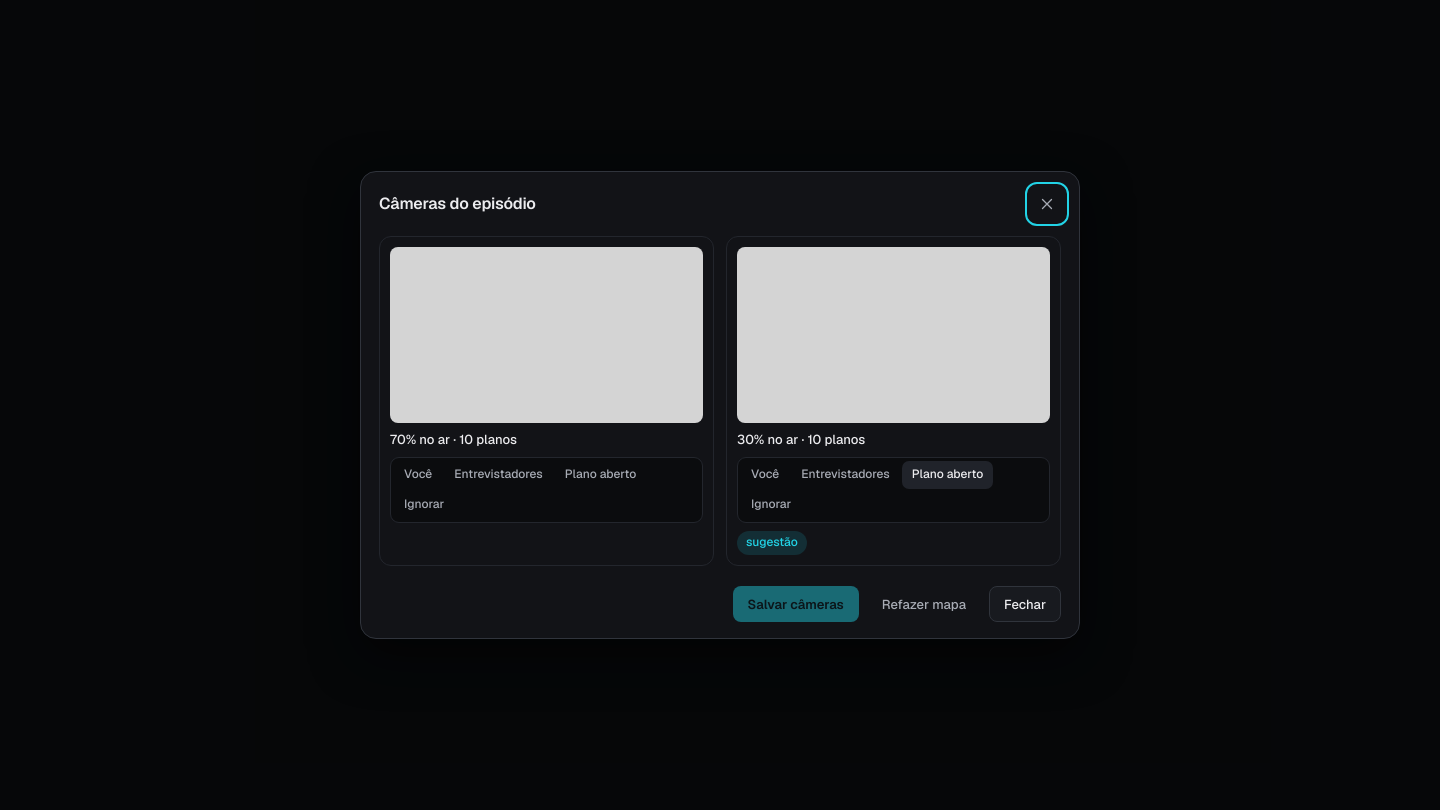
Scenario: save is disabled while a main group has no role
Expected: the button "Salvar câmeras" is disabled, x1=732 y1=586 x2=859 y2=622
Click the radio button labelled "Você" below "70%" at (418, 475), box x1=394 y1=461 x2=442 y2=489
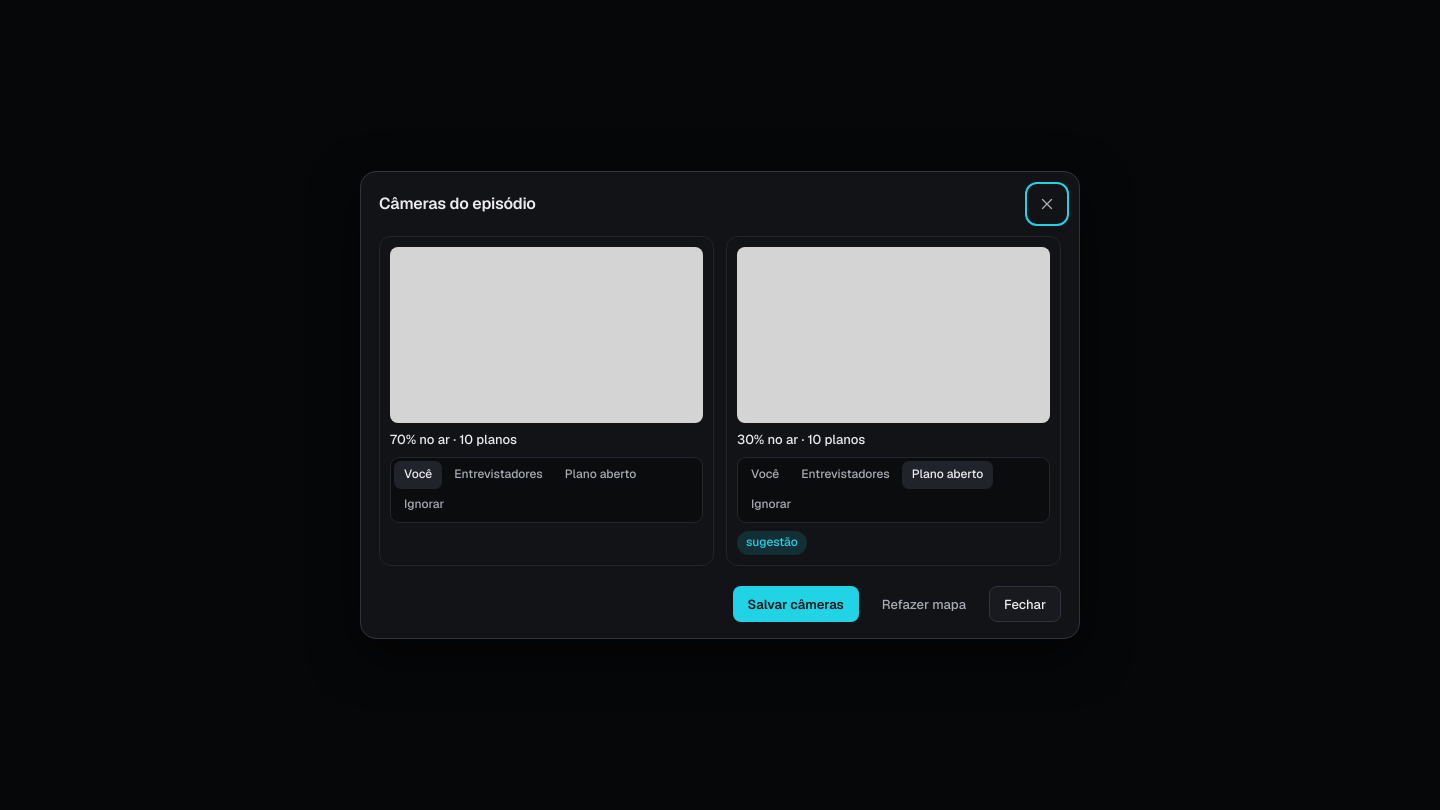
Expected: the button "Salvar câmeras" is enabled, x1=732 y1=586 x2=859 y2=622
